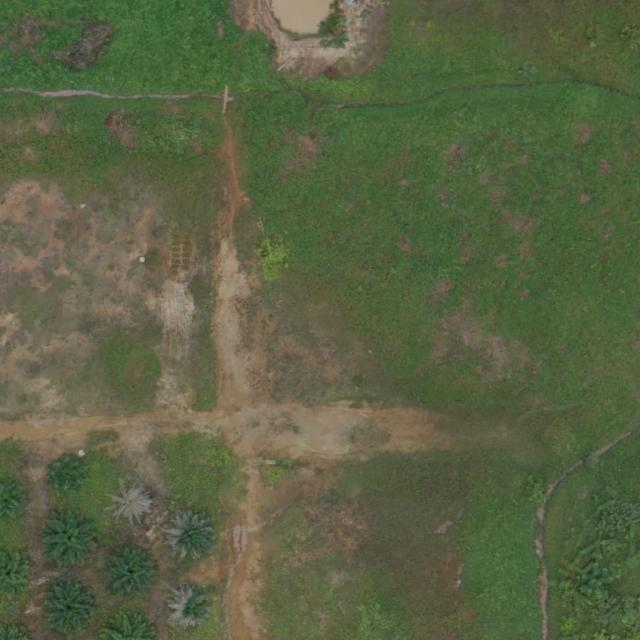Dead: (163, 511, 218, 566), (170, 586, 217, 634), (107, 480, 154, 527)
Healthy: (40, 509, 103, 572), (102, 543, 165, 605), (43, 583, 98, 638)
Small: (47, 455, 86, 494)
